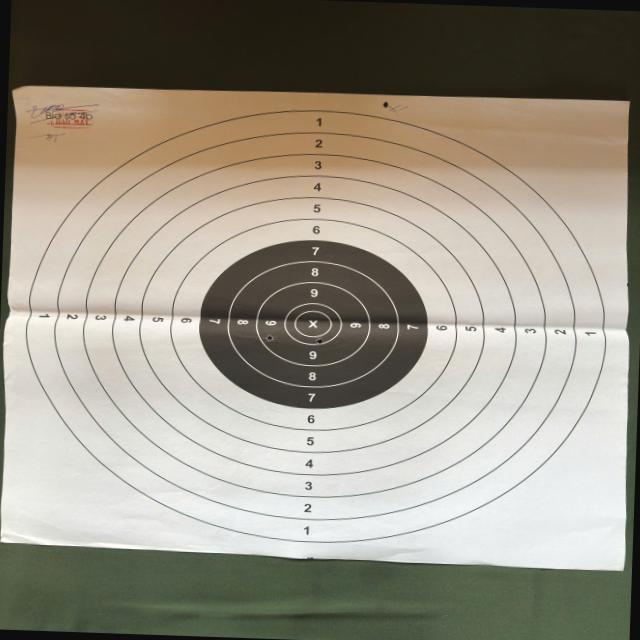bullet: (263, 334, 271, 342), (315, 336, 323, 344), (384, 102, 387, 106)
target: (0, 85, 627, 570)
